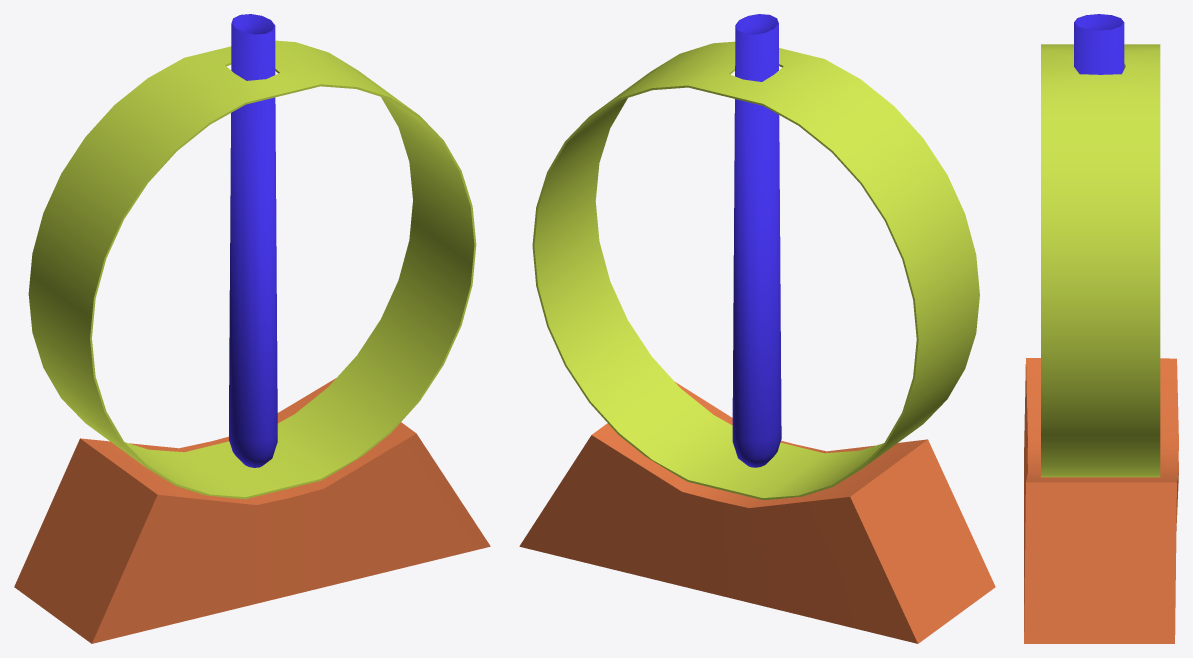
The model's file is CircleWStand.fbx.
3 renders of one model, left to right at view 1: azimuth 30°, elevation 25°; view 2: azimuth 150°, elevation 25°; view 3: azimuth 270°, elevation 25°, orthographic. The views are drawn at different scales.
Visible parts, largest first — view 1: Ring, Stand, Vase; view 2: Ring, Stand, Vase; view 3: Ring, Stand, Vase.
Part boxes in pixels (x1,y1,x2,y2): Ring: (28, 40, 476, 499); Stand: (14, 378, 490, 643); Vase: (229, 14, 277, 467); Ring: (532, 41, 979, 500); Stand: (519, 381, 995, 643); Vase: (732, 14, 781, 467); Ring: (1041, 44, 1160, 477); Stand: (1024, 358, 1178, 643); Vase: (1074, 14, 1124, 74).
Bounding box in the file's own units: 207 × 268 × 71.48.
